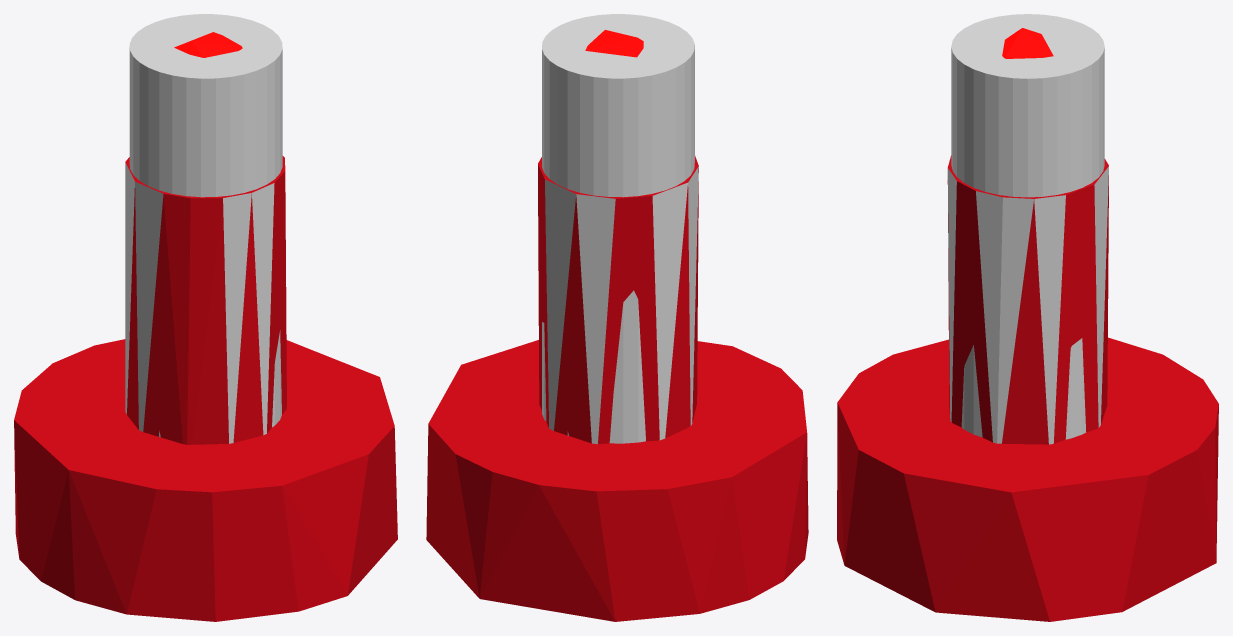
The model's file is Buoy.glb.
3 views of the same model, side by side, from view 1: azimuth 30°, elevation 25°; view 2: azimuth 150°, elevation 25°; view 3: azimuth 270°, elevation 25° (orthographic).
Visible parts, largest first — view 1: Buoy, Buoy-convcolonly.001; view 2: Buoy, Buoy-convcolonly.001; view 3: Buoy, Buoy-convcolonly.001.
Part boxes in pixels (bbox=[...]): Buoy: bbox=[14, 32, 397, 621]; Buoy-convcolonly.001: bbox=[129, 14, 282, 437]; Buoy: bbox=[426, 30, 808, 621]; Buoy-convcolonly.001: bbox=[542, 14, 694, 443]; Buoy: bbox=[837, 28, 1218, 621]; Buoy-convcolonly.001: bbox=[951, 14, 1104, 439].
Size of what is drawn, in the model's own units: 2 by 2.92 by 2.
